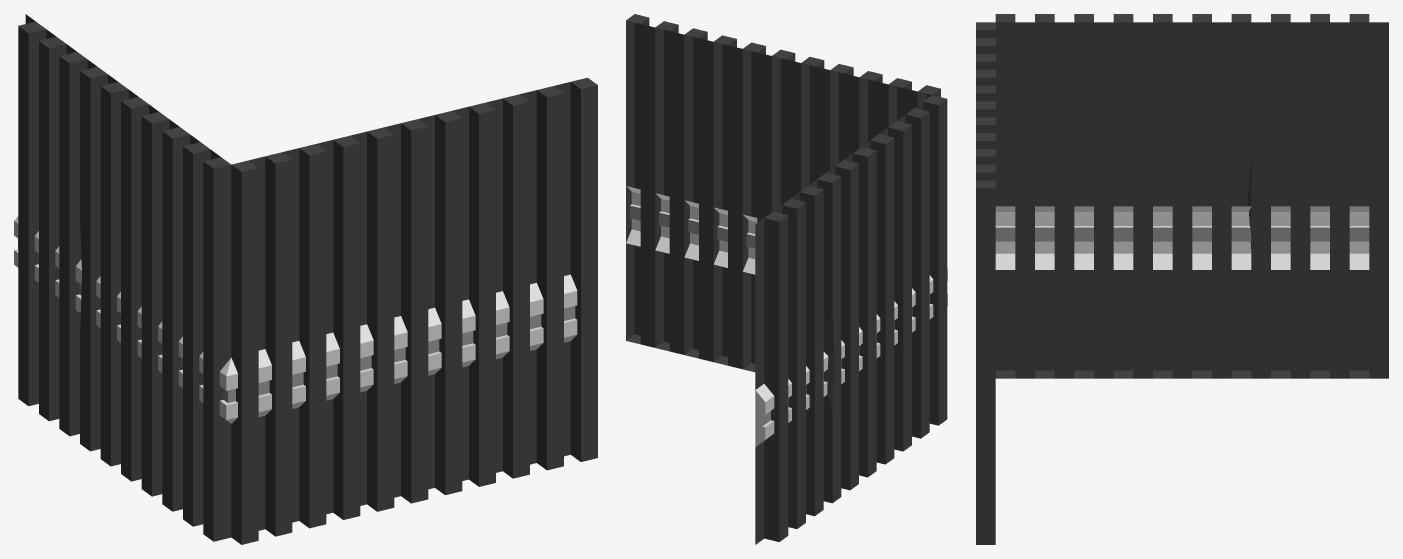
Rendered from Wall_22_Corner.FBX.
3 renders of one model, left to right at view 1: azimuth 30°, elevation 25°; view 2: azimuth 150°, elevation 25°; view 3: azimuth 270°, elevation 25°, orthographic. The views are drawn at different scales.
Parts seen in each view (by area): view 1: Wall_22_Corner_LOD0; view 2: Wall_22_Corner_LOD0; view 3: Wall_22_Corner_LOD0.
Boxes of the visible parts, x1,y1,x2,y2 form: Wall_22_Corner_LOD0: (14,14,597,544); Wall_22_Corner_LOD0: (626,14,947,544); Wall_22_Corner_LOD0: (976,14,1388,544).
Size of what is drawn, in the model's own units: 189 by 180 by 189.
